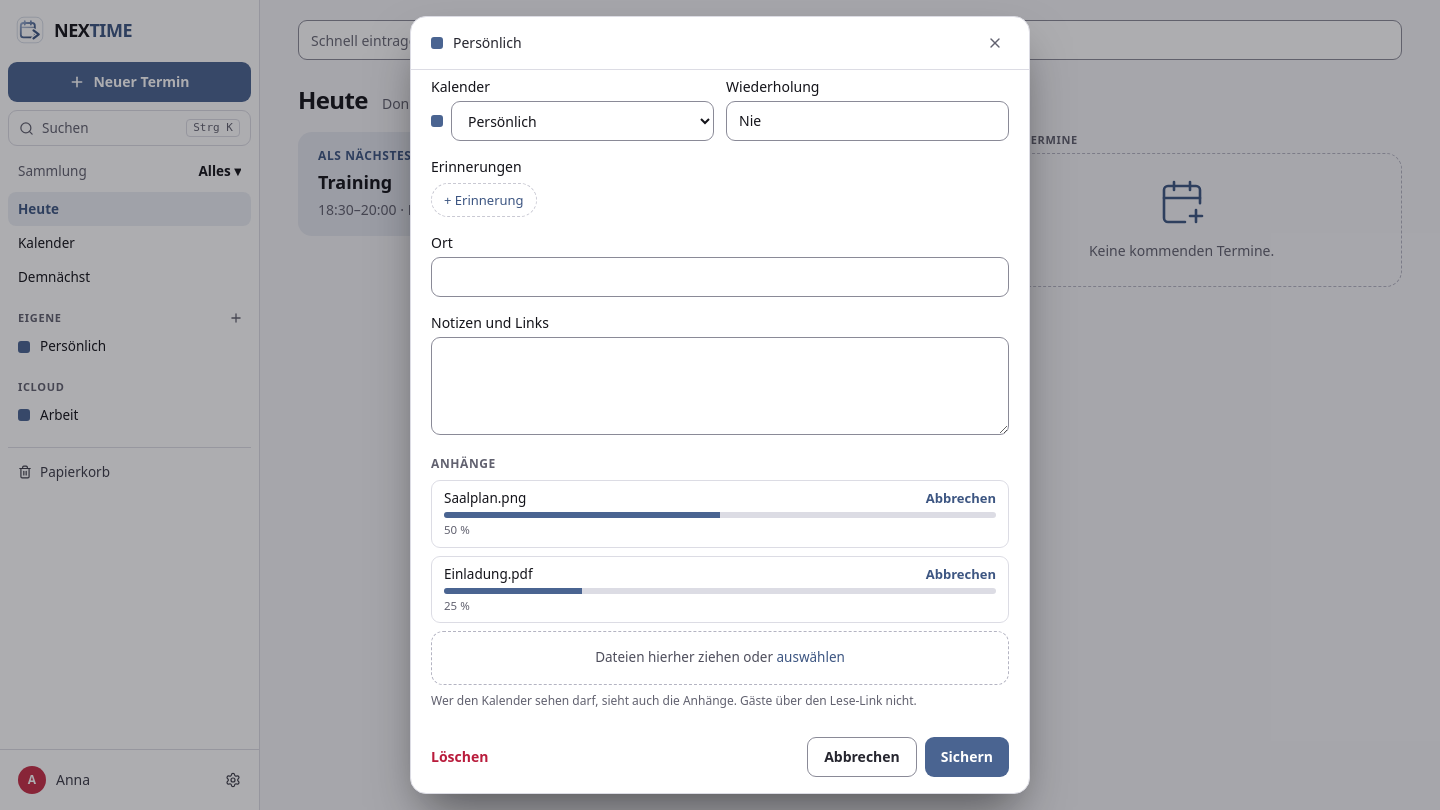
Test: TIME-9 the attachments of an event › TIME-9 AC-7 AC-6 several files upload each with its own progress, and "Abbrechen" leaves nothing
This screenshot has width=1440, height=810.
Earlier steps of the test are not shown.
Later steps or results of the test are not shown.
(page scrolled)
Click the button with test id "upload-cancel" in the row of "Einladung.pdf" at (961, 574), box [926,565,996,584]
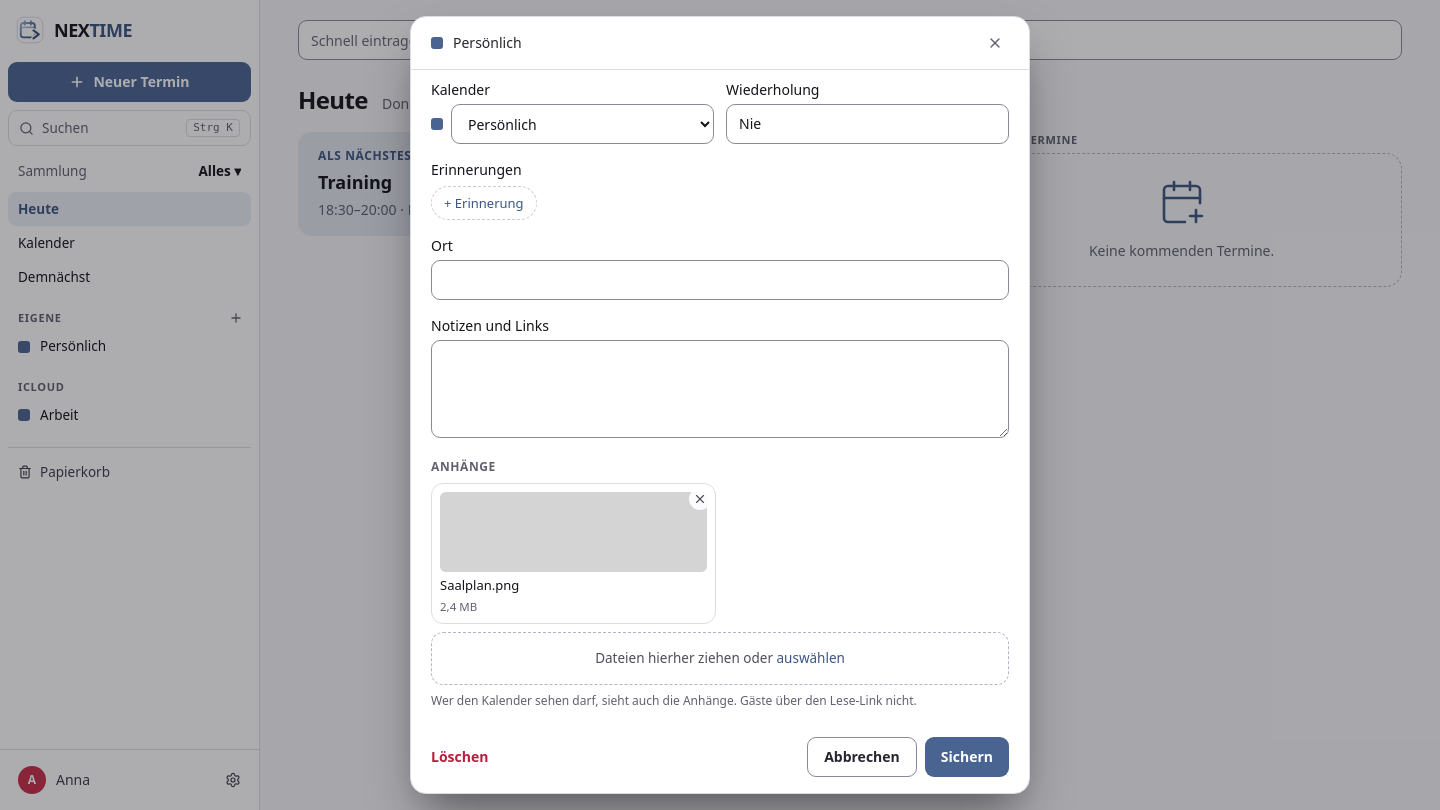
Now no elements with test id "upload" are shown
